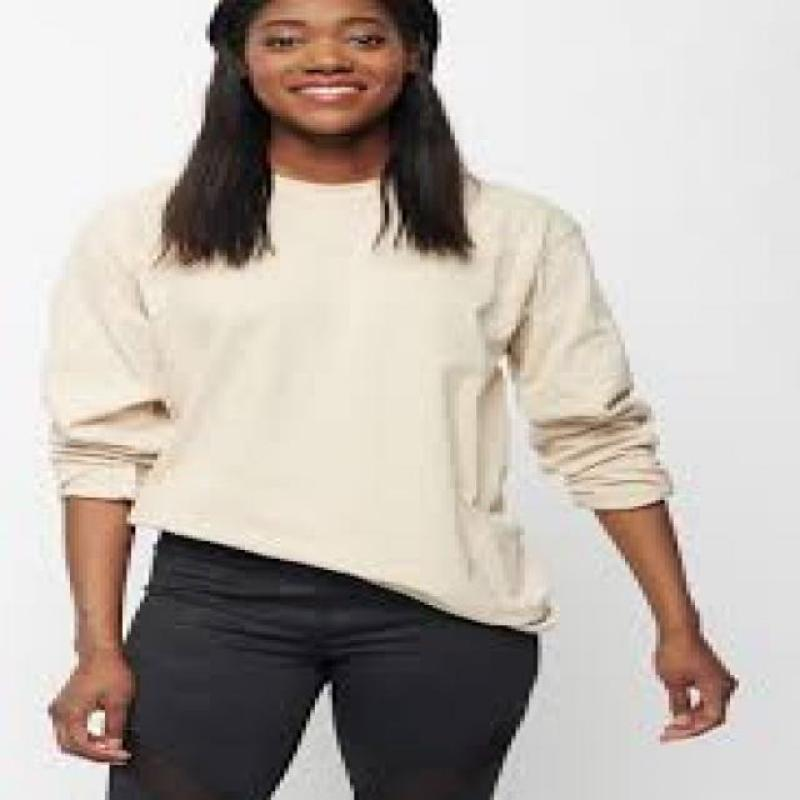sweater: (39, 161, 672, 637)
trousers: (102, 527, 542, 800)
